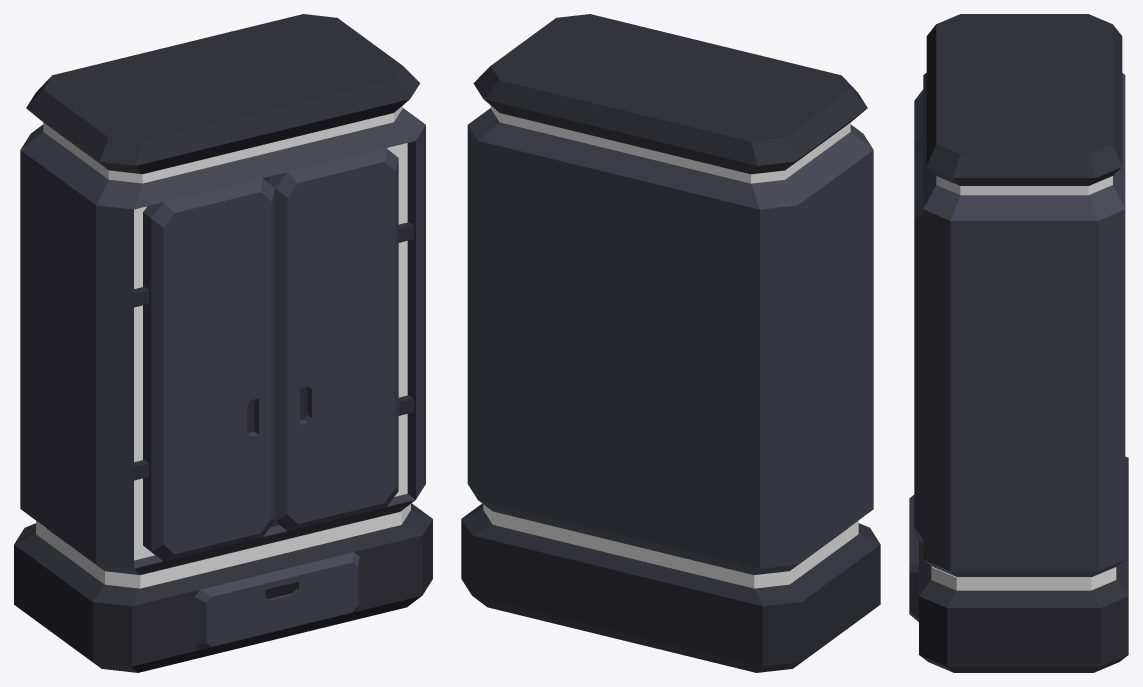
File: Wardrobe 01.fbx
3 views of the same model, side by side, from view 1: azimuth 30°, elevation 25°; view 2: azimuth 150°, elevation 25°; view 3: azimuth 270°, elevation 25° (orthographic). The views are drawn at different scales.
Visible parts, largest first — view 1: Wardrobe_01, Right_Door, Left_Door; view 2: Wardrobe_01; view 3: Wardrobe_01, Left_Door, Right_Door.
Boxes of the visible parts, x1,y1,x2,y2 form: Wardrobe_01: (14,14,432,672); Right_Door: (134,178,274,561); Left_Door: (267,148,413,530); Wardrobe_01: (461,14,880,672); Wardrobe_01: (909,14,1128,672); Left_Door: (914,148,923,545); Right_Door: (914,89,923,158).
Size of the model in its own units: 184 by 272 by 105.
